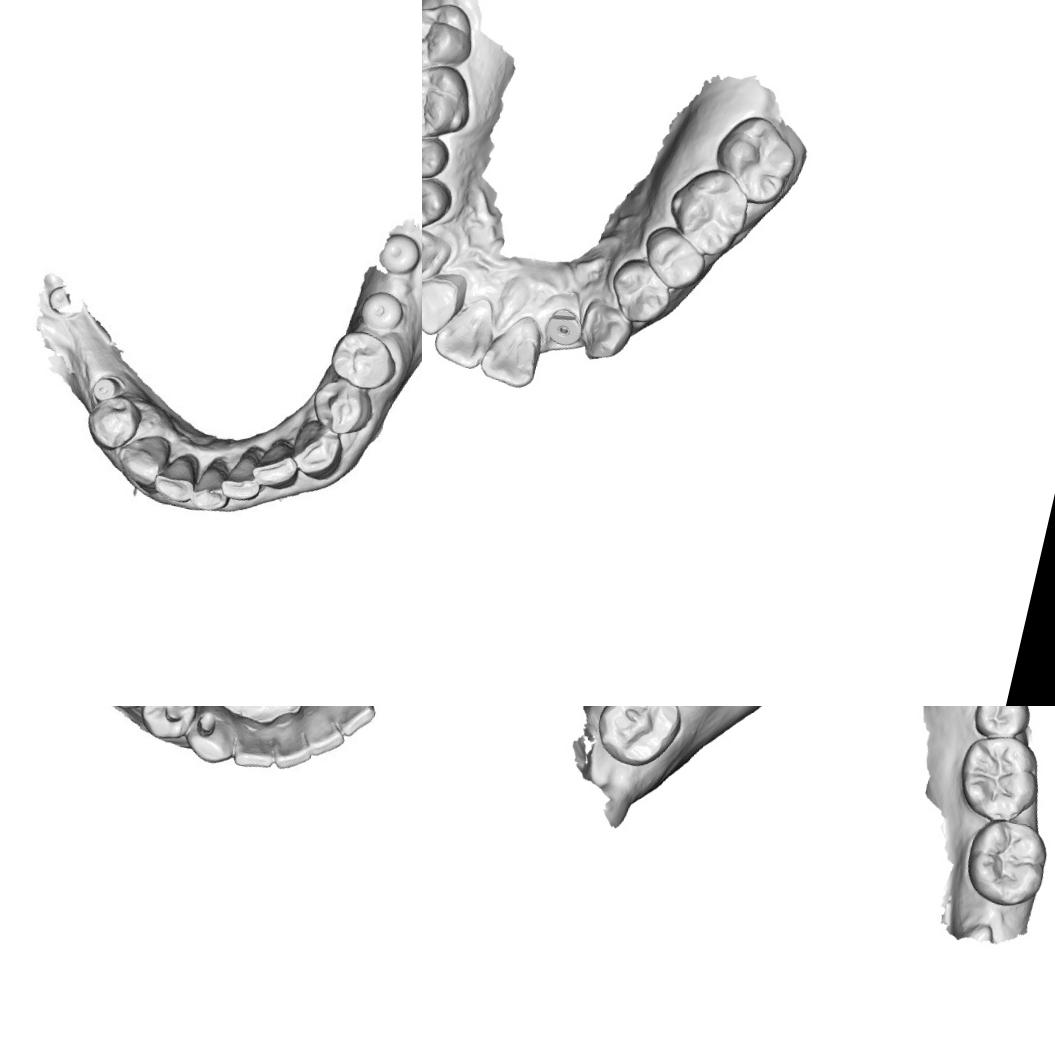canine: (575, 296, 639, 368), (180, 706, 243, 773), (112, 426, 173, 494), (288, 418, 350, 483), (422, 224, 455, 291)
implant: (374, 232, 422, 281), (541, 303, 586, 350), (358, 288, 405, 332), (86, 369, 122, 407)
incisor: (476, 308, 548, 391), (429, 288, 498, 372), (229, 706, 288, 776), (152, 451, 203, 513), (253, 436, 307, 490), (422, 270, 463, 340), (272, 714, 318, 768), (222, 446, 266, 502), (189, 456, 233, 512), (297, 706, 342, 753), (324, 706, 378, 741)
molar: (950, 727, 1050, 830), (956, 810, 1055, 914), (706, 109, 804, 210), (660, 161, 757, 263), (588, 706, 689, 775), (422, 54, 480, 149), (422, 0, 480, 86)
premolar: (324, 324, 406, 394), (604, 253, 678, 330), (637, 222, 712, 296), (305, 374, 380, 442), (82, 392, 146, 456), (967, 706, 1036, 747), (422, 169, 457, 242), (138, 706, 200, 746), (422, 127, 453, 192)
